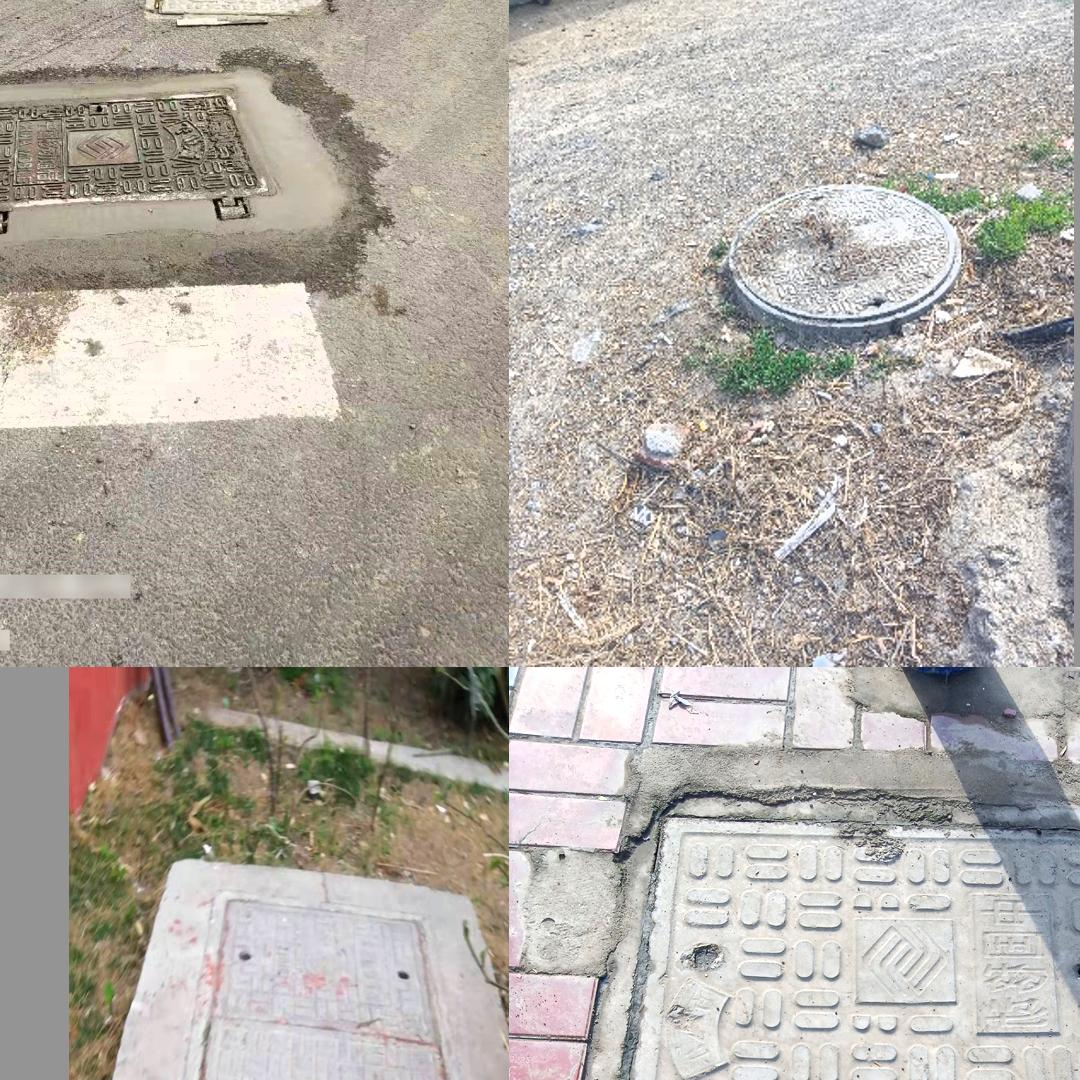good: (509, 794, 1080, 1080), (154, 892, 493, 1080), (0, 84, 281, 236), (727, 184, 961, 328), (143, 0, 334, 28)
